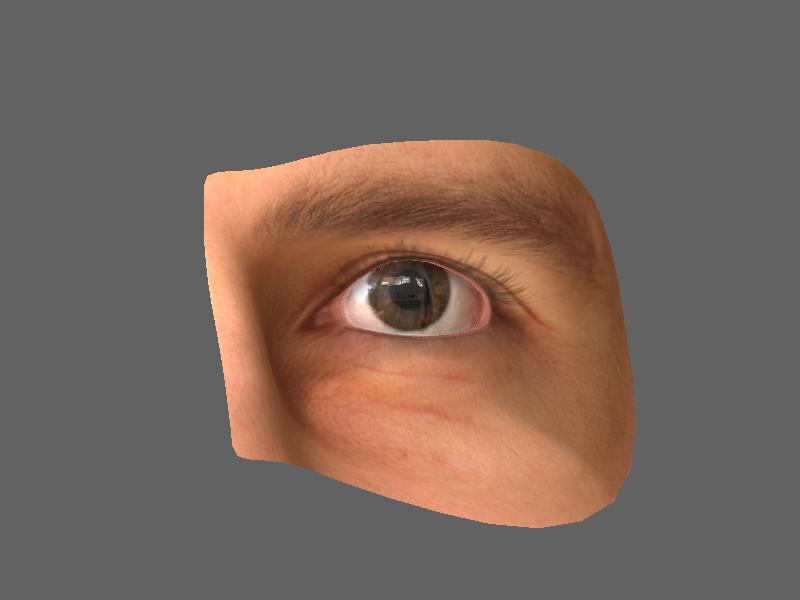iris: (363, 261, 451, 330)
